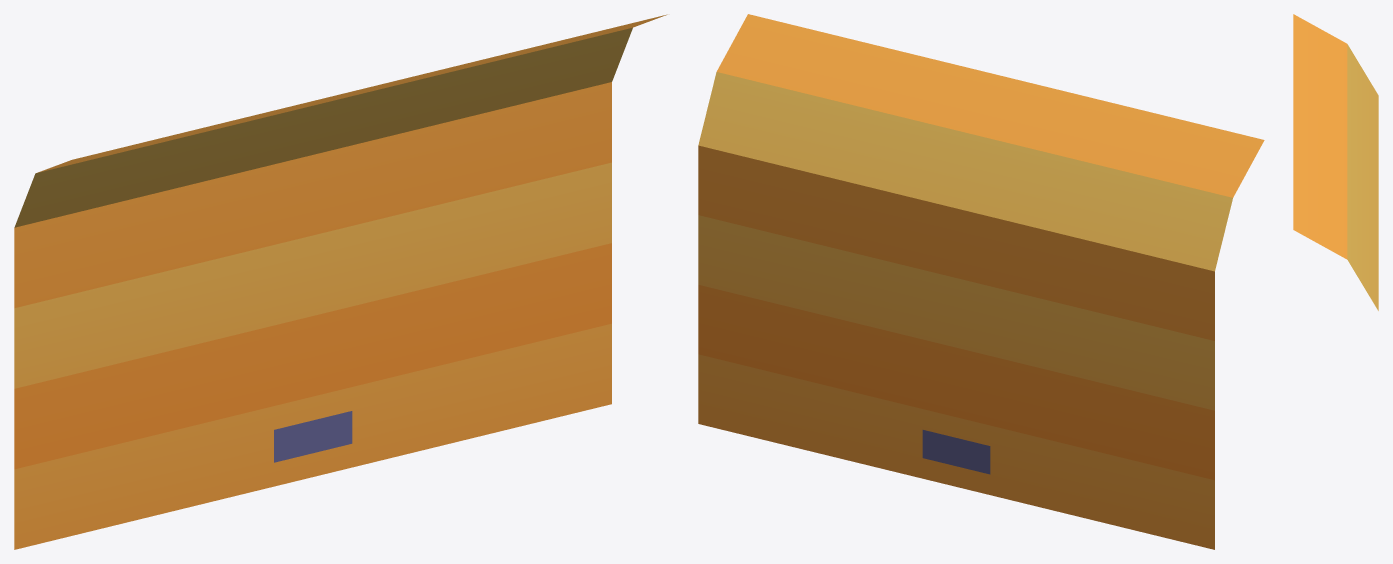
The model's file is door-wide-half.fbx.
3 views of the same model, side by side, from view 1: azimuth 30°, elevation 25°; view 2: azimuth 150°, elevation 25°; view 3: azimuth 270°, elevation 25° (orthographic). The views are drawn at different scales.
Parts seen in each view (by area): view 1: door-wide-half; view 2: door-wide-half; view 3: door-wide-half.
Boxes of the visible parts, left/top/right/bottom form: door-wide-half: left=14, top=14, right=667, bottom=549; door-wide-half: left=698, top=14, right=1264, bottom=549; door-wide-half: left=1293, top=14, right=1378, bottom=310.
Size of the model in its own units: 180 by 124 by 30.
1 material, 1 textured.
